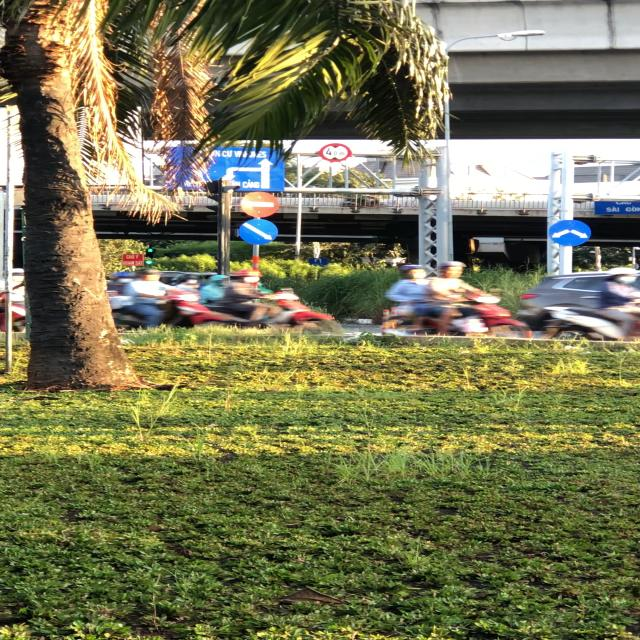Bien bao cam di nguoc chieu: (240, 188, 281, 220)
Bien bao han che chieu cao: (317, 141, 357, 164)
Bien bao huong phai di vong chuong ngai vat: (544, 218, 597, 249), (239, 217, 289, 246)
